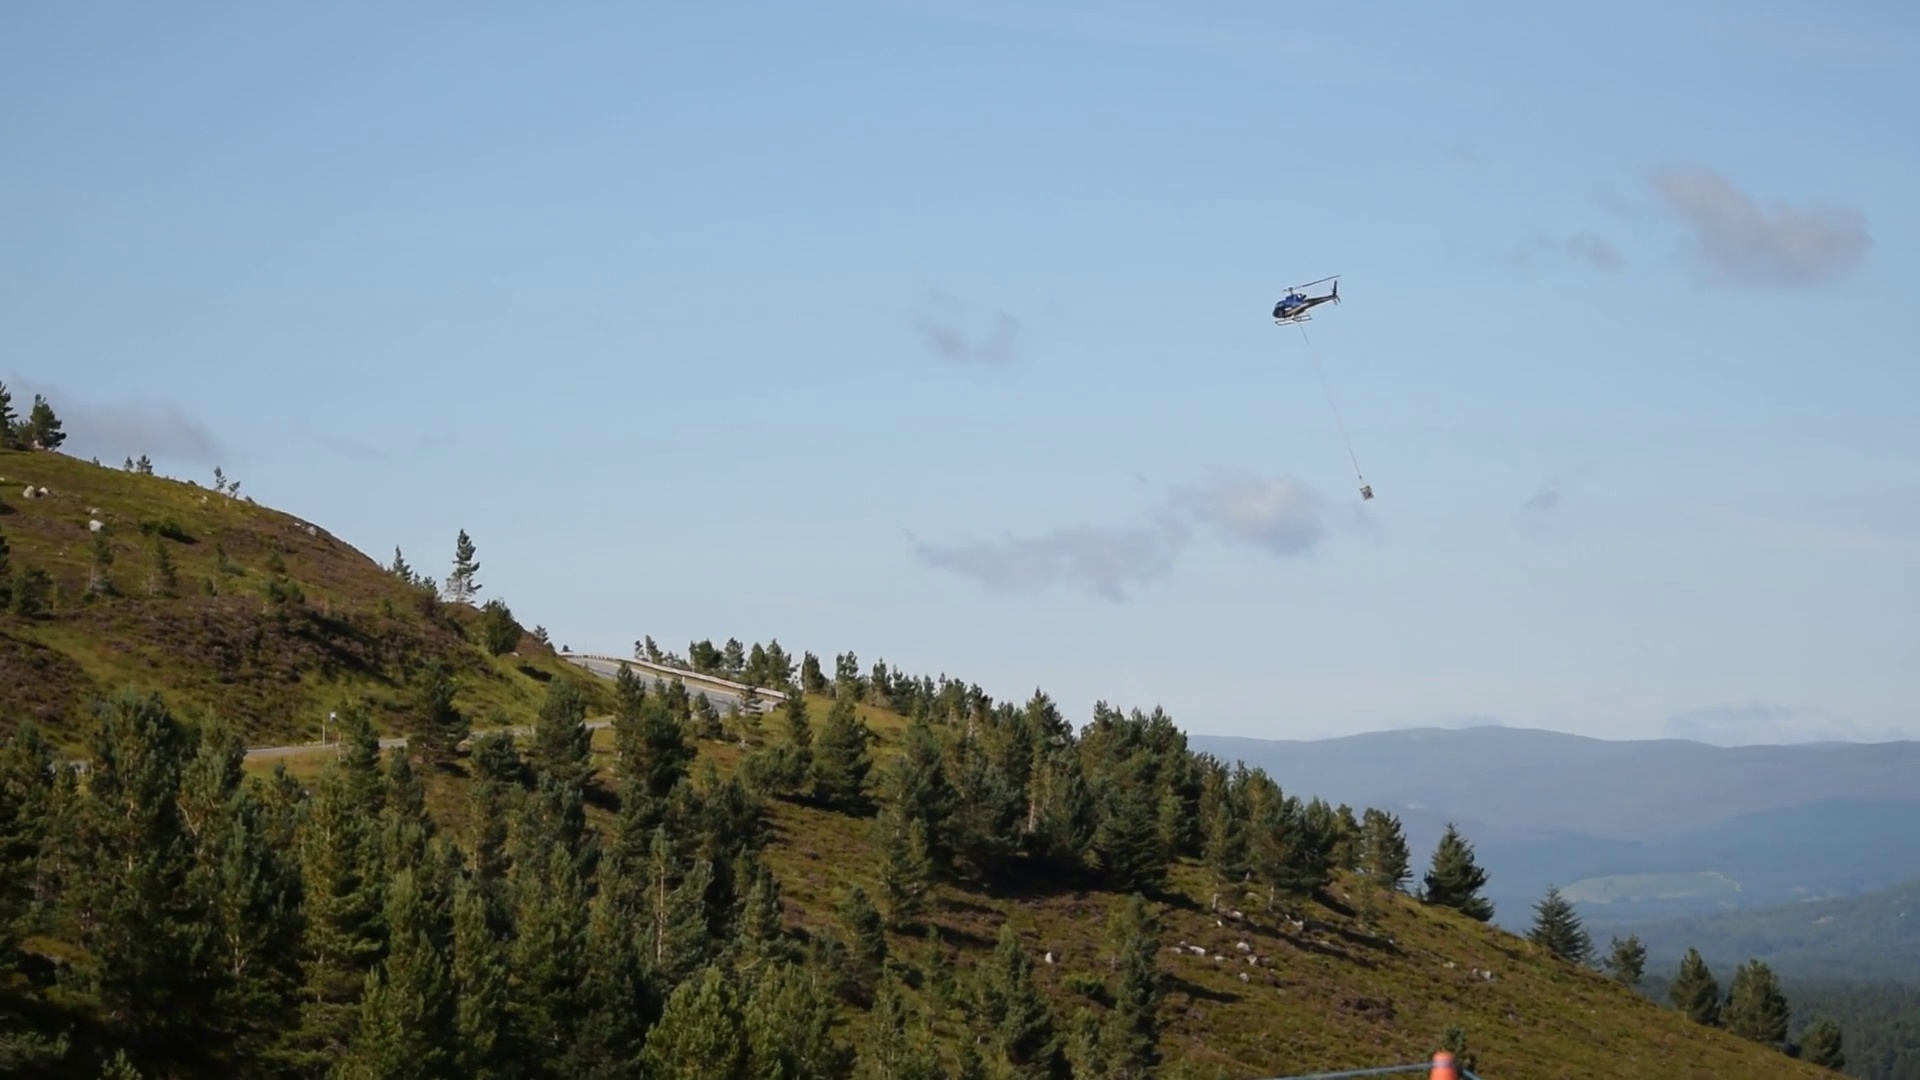heli: (1266, 276, 1342, 327)
